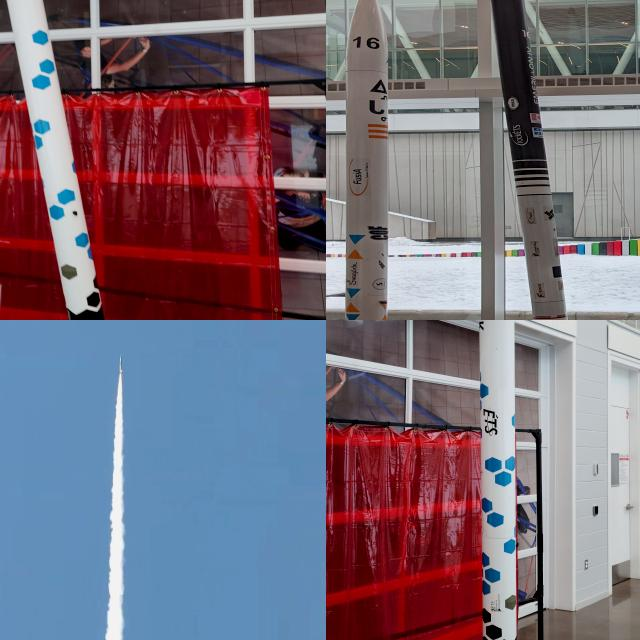Rocket: (7, 0, 105, 320), (489, 0, 568, 320), (345, 0, 389, 320), (479, 320, 517, 640), (119, 354, 122, 374)
